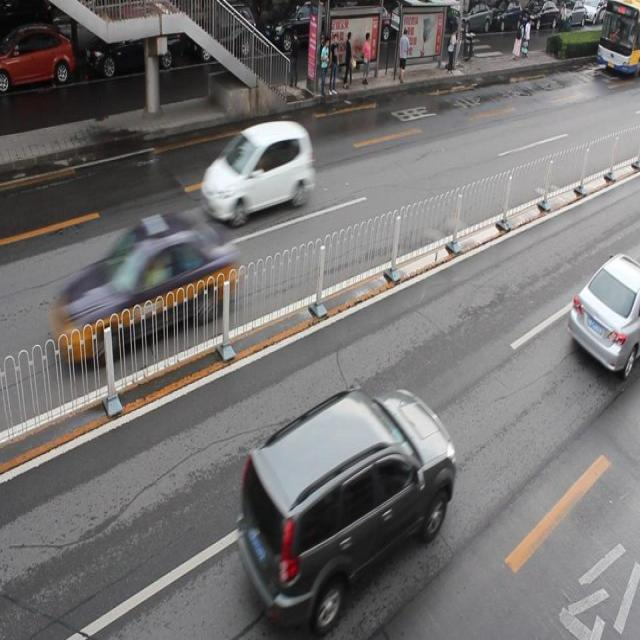car: (242, 383, 452, 624), (54, 212, 237, 369), (201, 119, 313, 224), (568, 253, 640, 373), (83, 21, 179, 80), (1, 26, 76, 93), (186, 1, 255, 61), (261, 1, 330, 56)
van: (597, 1, 640, 74)
